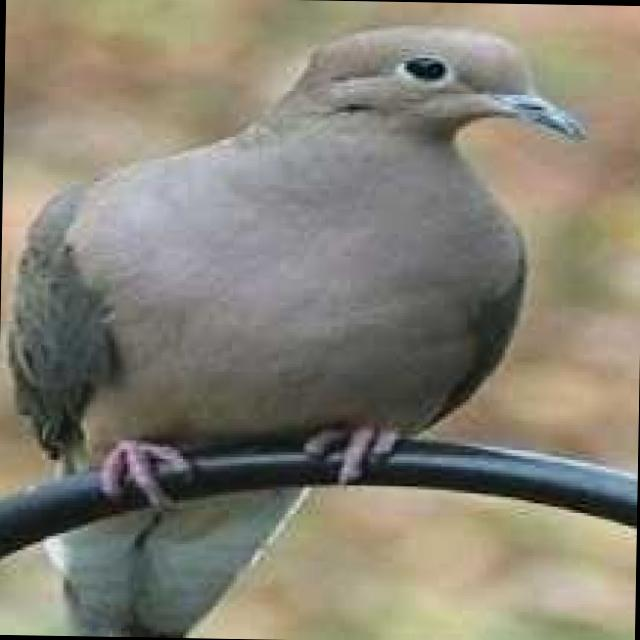bird: (0, 14, 590, 640)
